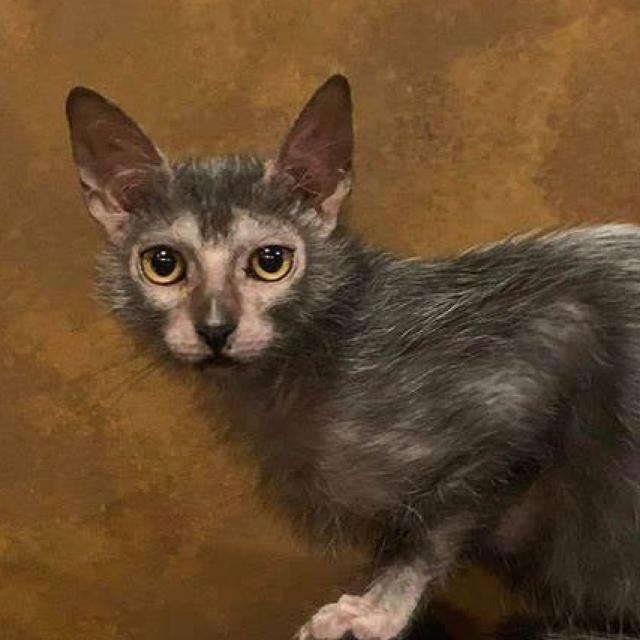Lykoi: (58, 69, 640, 640)
